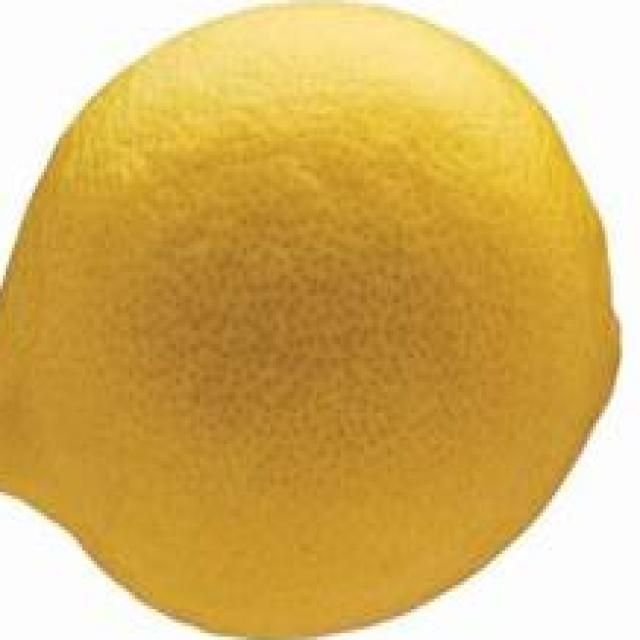lemon: (0, 0, 626, 629)
